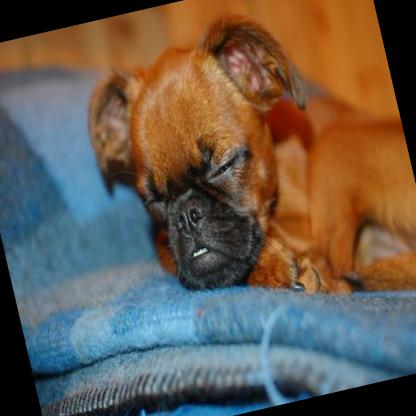Brabancon_griffon: (67, 0, 416, 359)
